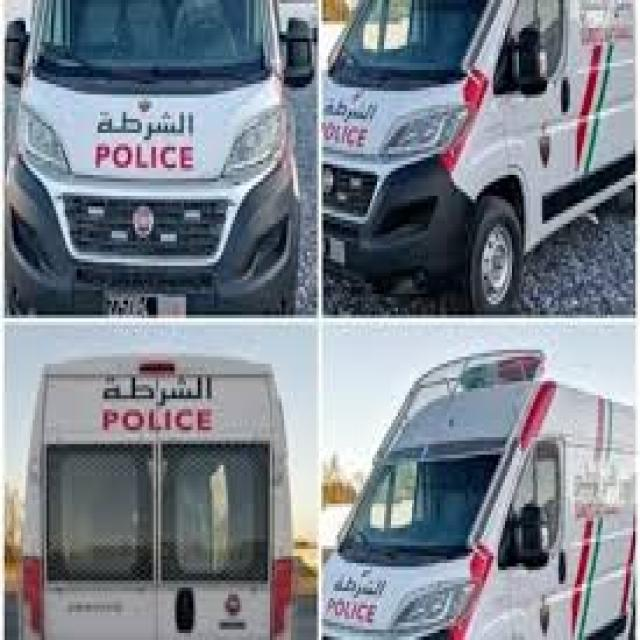police: (4, 7, 314, 320), (328, 346, 640, 640), (26, 348, 298, 640)
